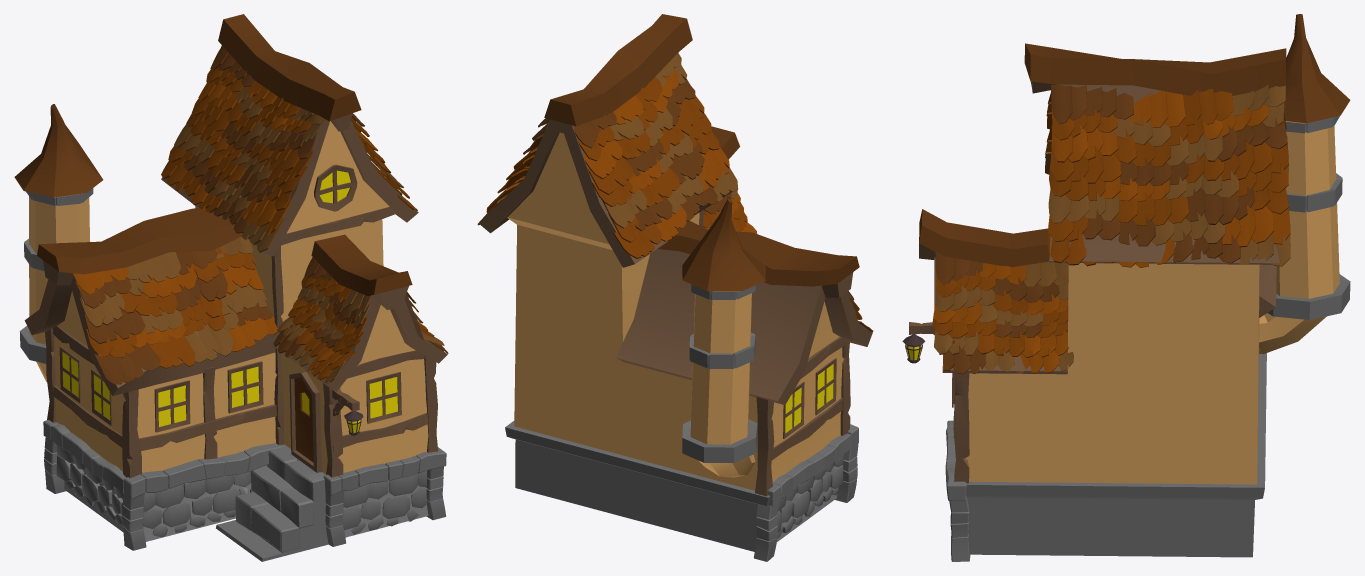
Rendered from Medieval Tavern.fbx.
The picture shows the model from 3 angles, left to right: view 1: azimuth 30°, elevation 25°; view 2: azimuth 150°, elevation 25°; view 3: azimuth 270°, elevation 25°; orthographic projection. The views are drawn at different scales.
Parts seen in each view (by area): view 1: Cube.001, Cube.003, Cube.002; view 2: Cube.001, Cube.003; view 3: Cube.001, Cube.003, Cube.002.
Boxes of the visible parts, bbox=[...] form: Cube.001: bbox=[14, 14, 447, 561]; Cube.003: bbox=[351, 113, 417, 210]; Cube.002: bbox=[404, 292, 448, 353]; Cube.001: bbox=[480, 14, 873, 561]; Cube.003: bbox=[477, 116, 551, 225]; Cube.001: bbox=[902, 14, 1350, 561]; Cube.003: bbox=[1047, 84, 1290, 267]; Cube.002: bbox=[932, 252, 1073, 374].
Size of the model in its own units: 936 by 1170 by 982.
